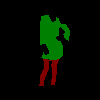fuseaux: (39, 58, 58, 86)
vestito: (40, 14, 70, 60)
